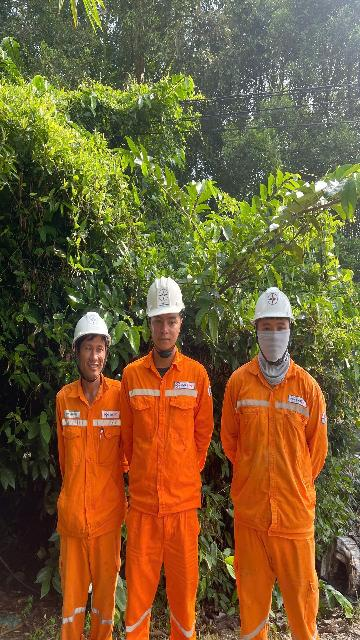helmet: (143, 271, 197, 324), (237, 285, 307, 325), (57, 310, 122, 349)
